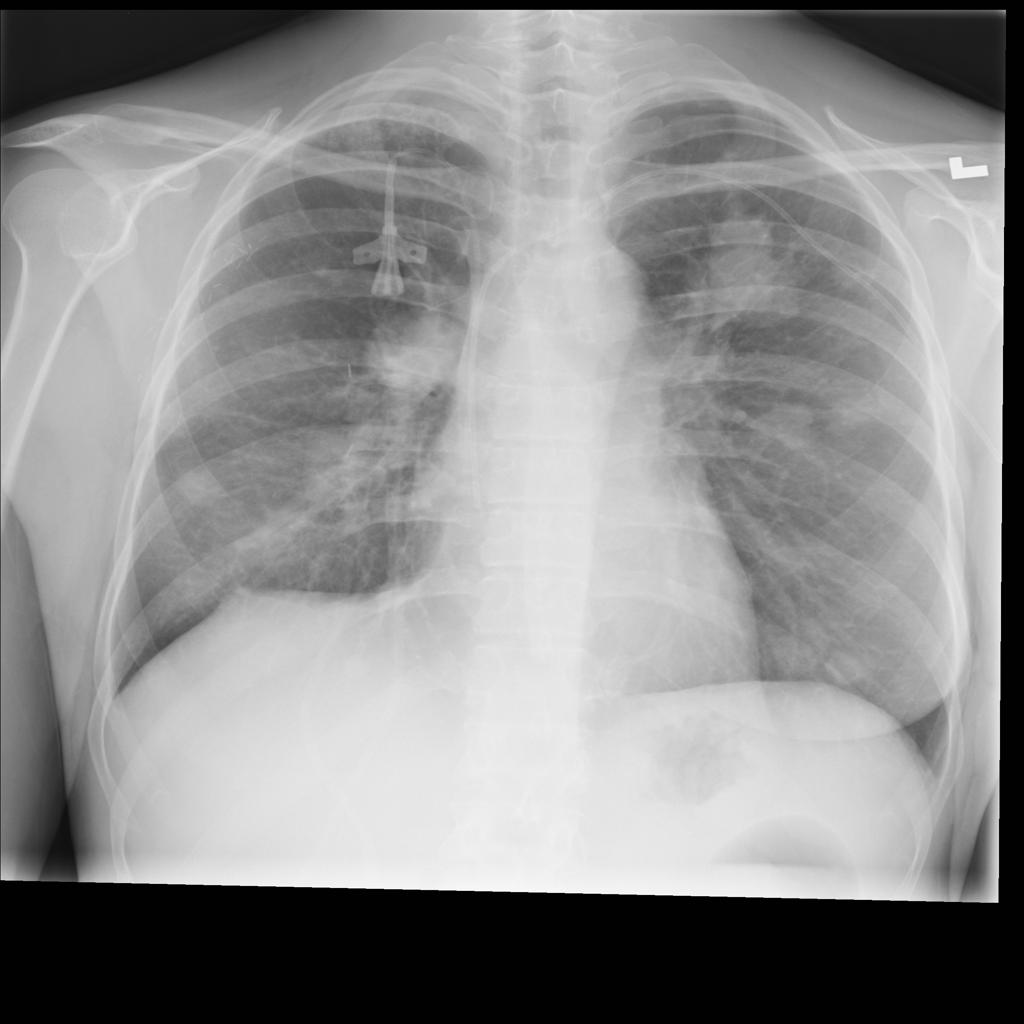nodule: (190, 480, 350, 608), (685, 206, 819, 346), (279, 409, 404, 528), (356, 296, 477, 403), (747, 387, 832, 457), (752, 616, 836, 684), (160, 453, 239, 517), (814, 380, 890, 446), (817, 239, 893, 303), (810, 637, 888, 698)
